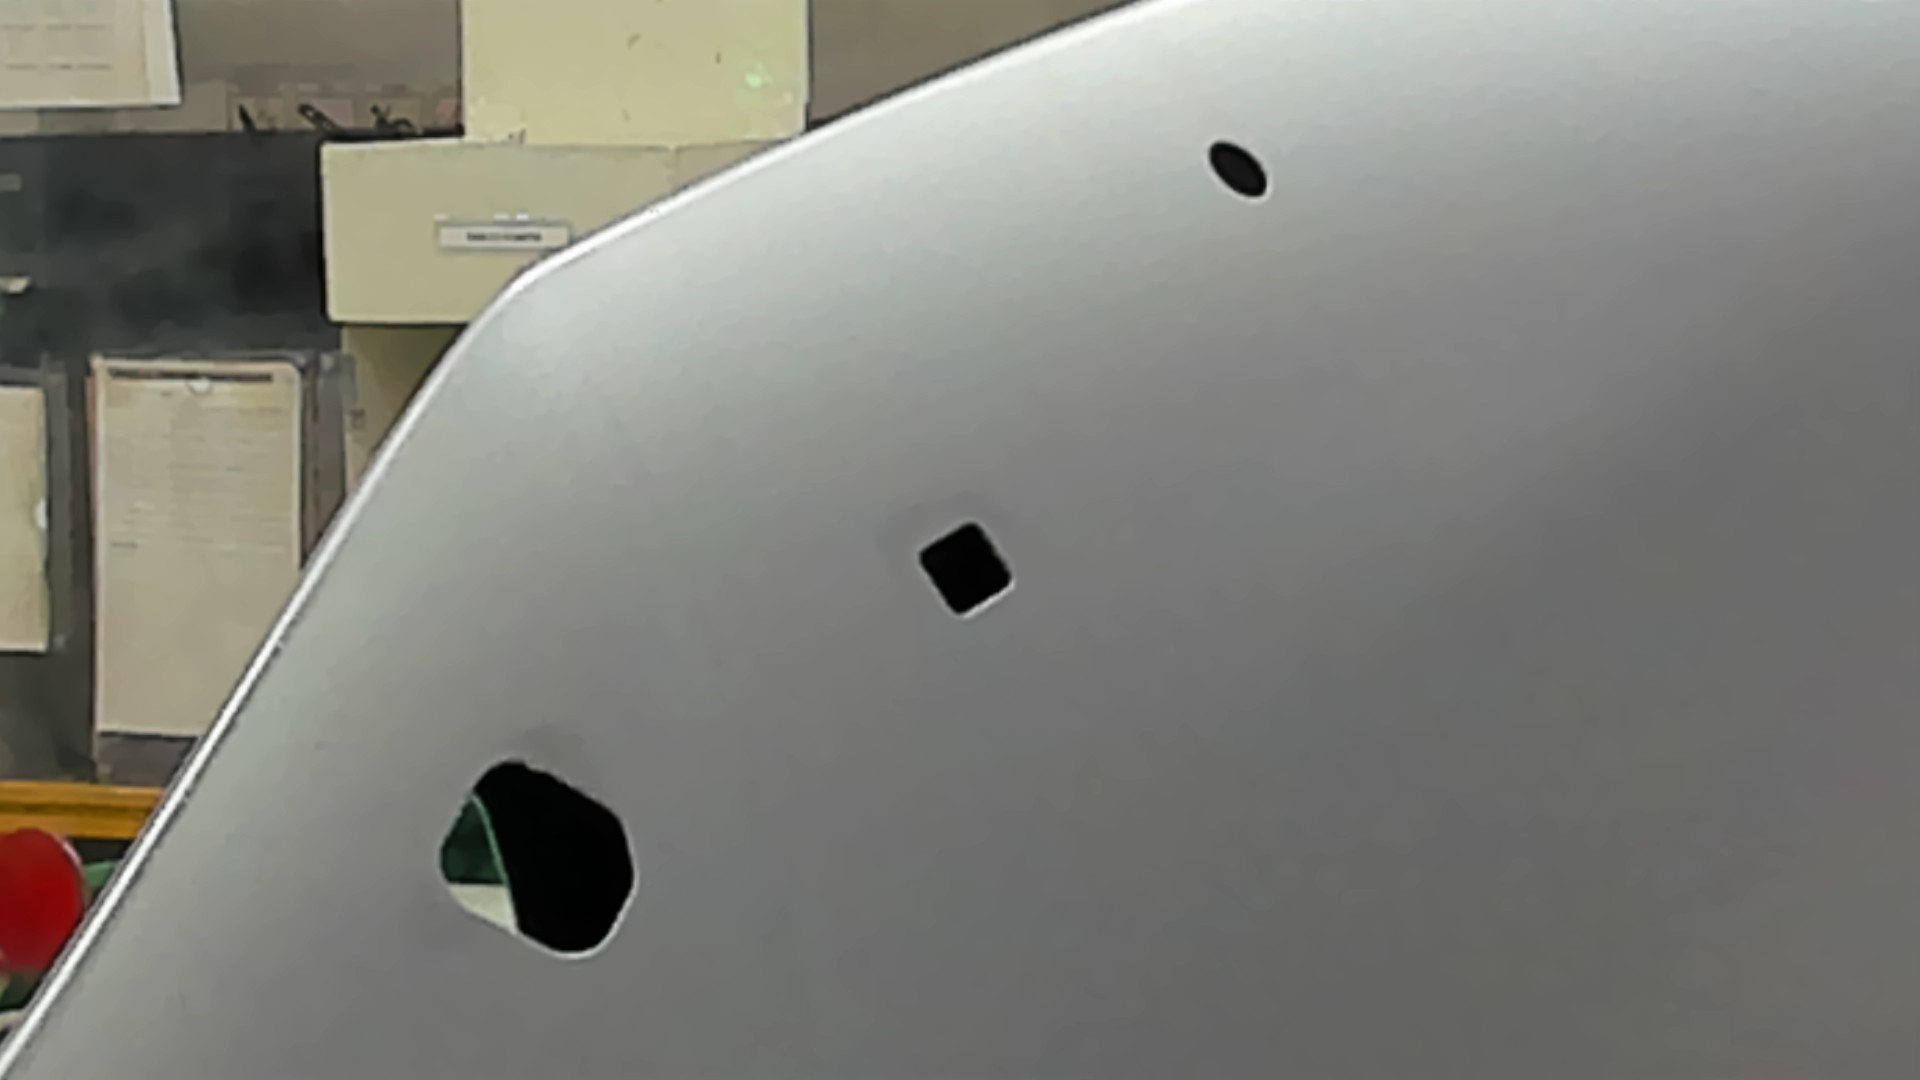chico: (1197, 128, 1284, 208)
grande: (413, 744, 657, 977)
mediano: (906, 512, 1029, 632)
